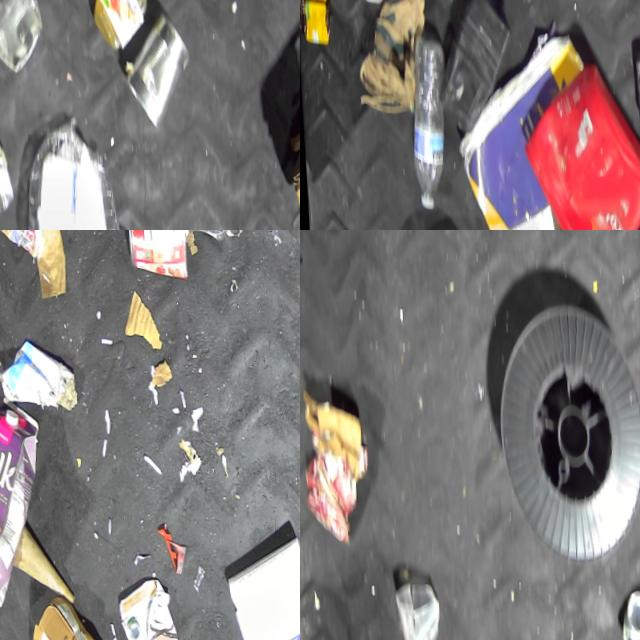can: (120, 3, 193, 127), (0, 0, 46, 77), (121, 230, 188, 277), (610, 577, 640, 640), (0, 230, 54, 258), (300, 0, 330, 46)
non_white_jug: (512, 50, 640, 230), (0, 386, 43, 610), (107, 573, 182, 640)
plastic_bottle: (401, 30, 448, 211)
